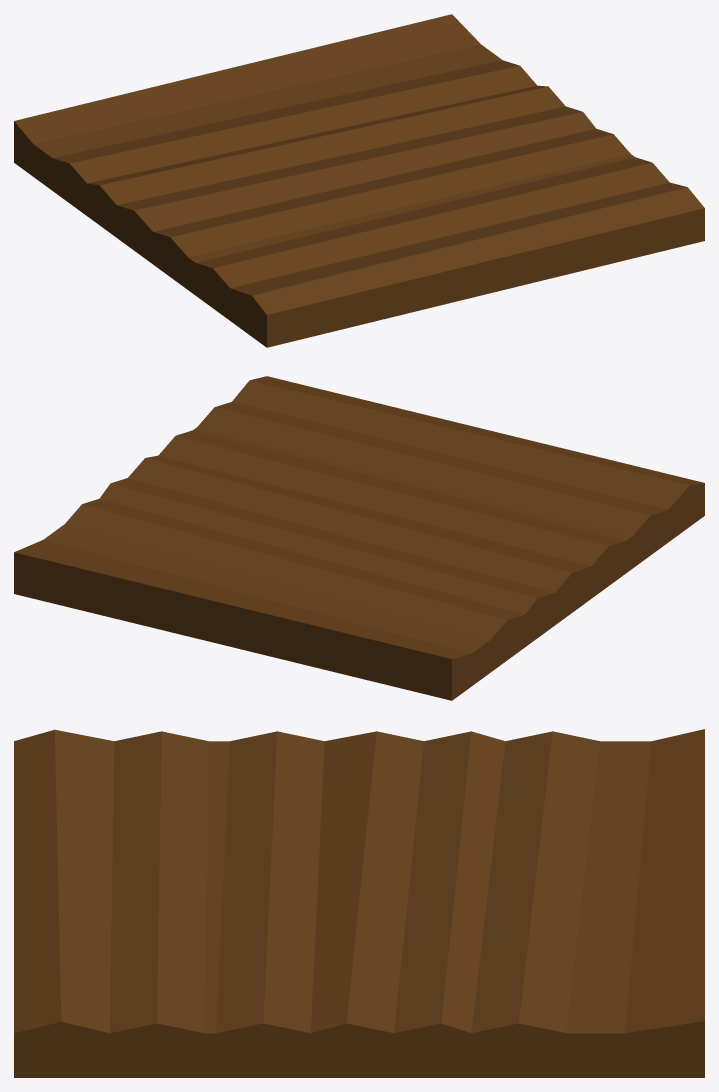
Rendered from Teplica_Ground.fbx.
3 views of the same model, one above another, from view 1: azimuth 30°, elevation 25°; view 2: azimuth 150°, elevation 25°; view 3: azimuth 270°, elevation 25° (orthographic). The views are drawn at different scales.
Parts seen in each view (by area): view 1: Cube; view 2: Cube; view 3: Cube.
Part boxes in pixels (<box>): Cube: <box>14,14,704,347</box>; Cube: <box>14,376,704,700</box>; Cube: <box>14,729,704,1077</box>.
Bounding box in the file's own units: 1400 × 127 × 1400.
